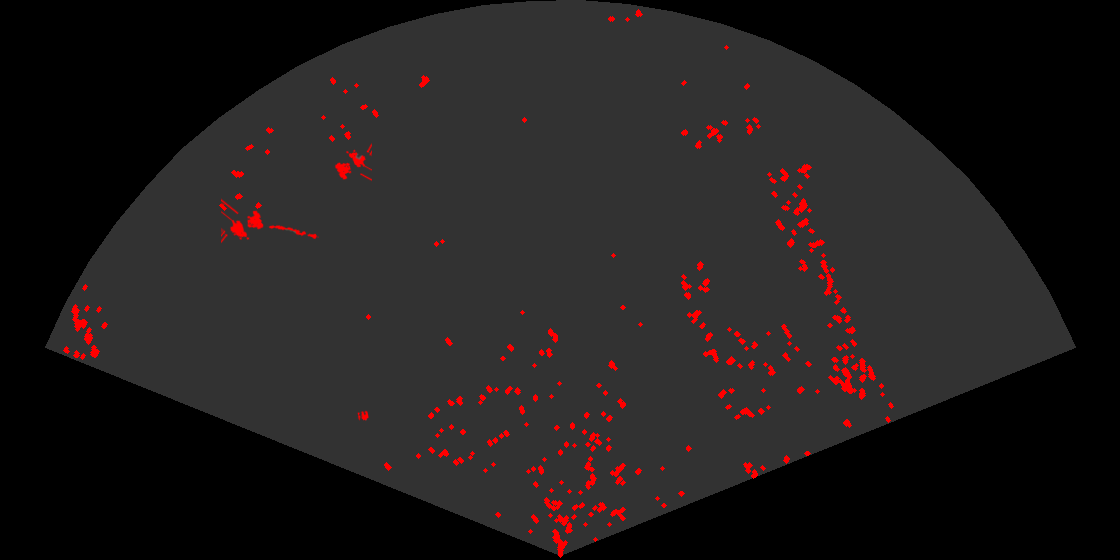ball: (356, 409, 370, 422)
cage: (221, 198, 265, 245), (333, 142, 372, 183)
chain: (267, 223, 319, 241)
